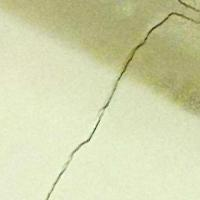crack: (42, 0, 199, 199)
